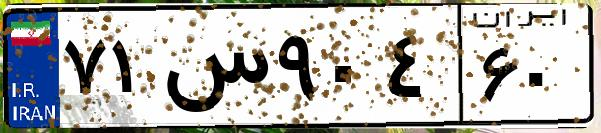0: (330, 28, 385, 110), (525, 38, 570, 115)
1: (110, 28, 158, 98)
4: (385, 28, 445, 110)
6: (475, 38, 525, 113)
7: (57, 26, 110, 100)
9: (270, 28, 330, 110)
س: (158, 20, 270, 120)
